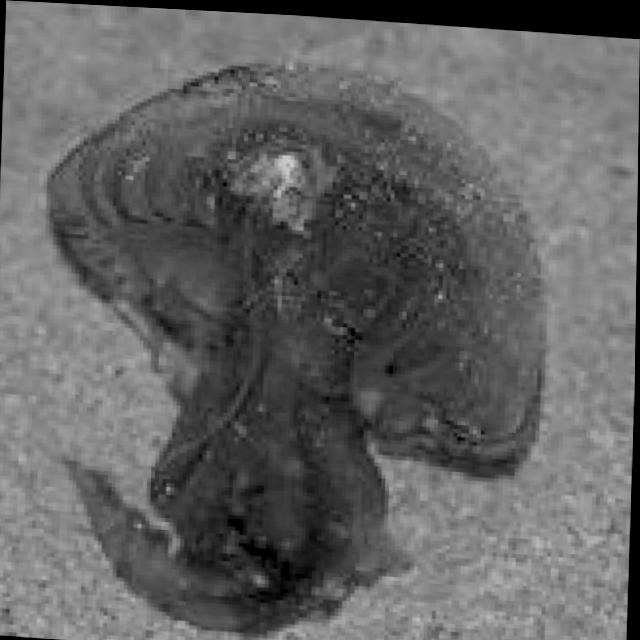Box-jellyfish: (27, 39, 559, 640)
